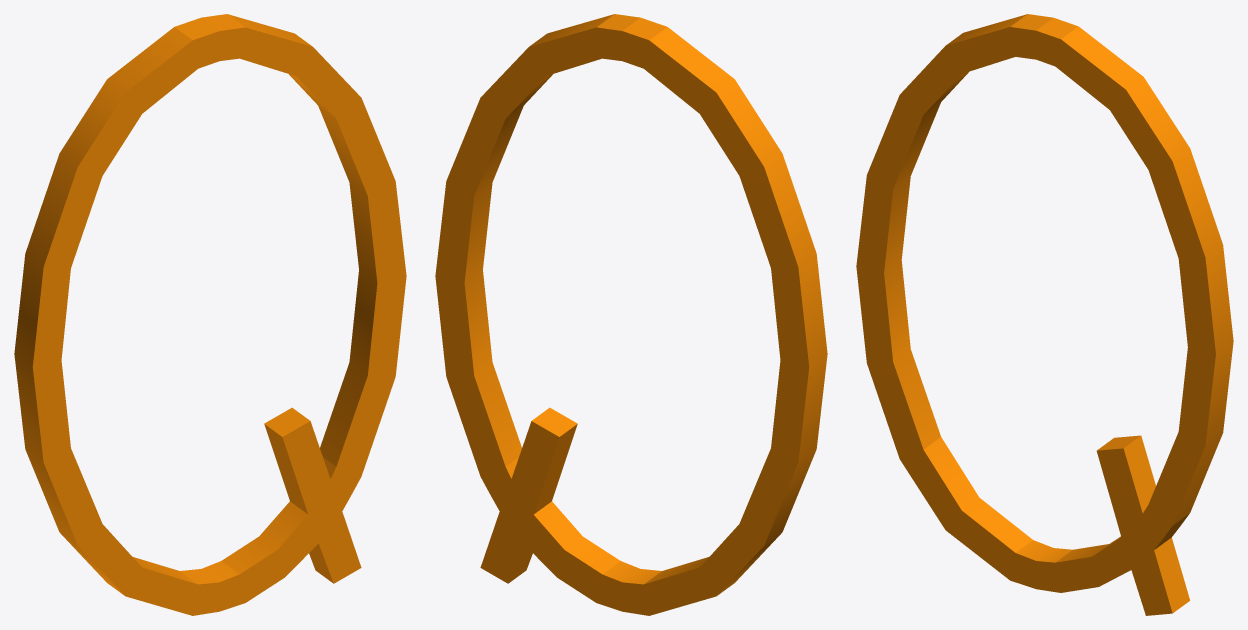
3 renders of one model, left to right at view 1: azimuth 30°, elevation 25°; view 2: azimuth 150°, elevation 25°; view 3: azimuth 330°, elevation 25°, orthographic. The views are drawn at different scales.
Visible parts, largest first — view 1: Q; view 2: Q; view 3: Q.
Part boxes in pixels (bbox=[...]): Q: bbox=[14, 14, 406, 615]; Q: bbox=[435, 14, 827, 615]; Q: bbox=[856, 14, 1233, 615].
Size of the model in its own units: 58.78 by 87.24 by 5.
